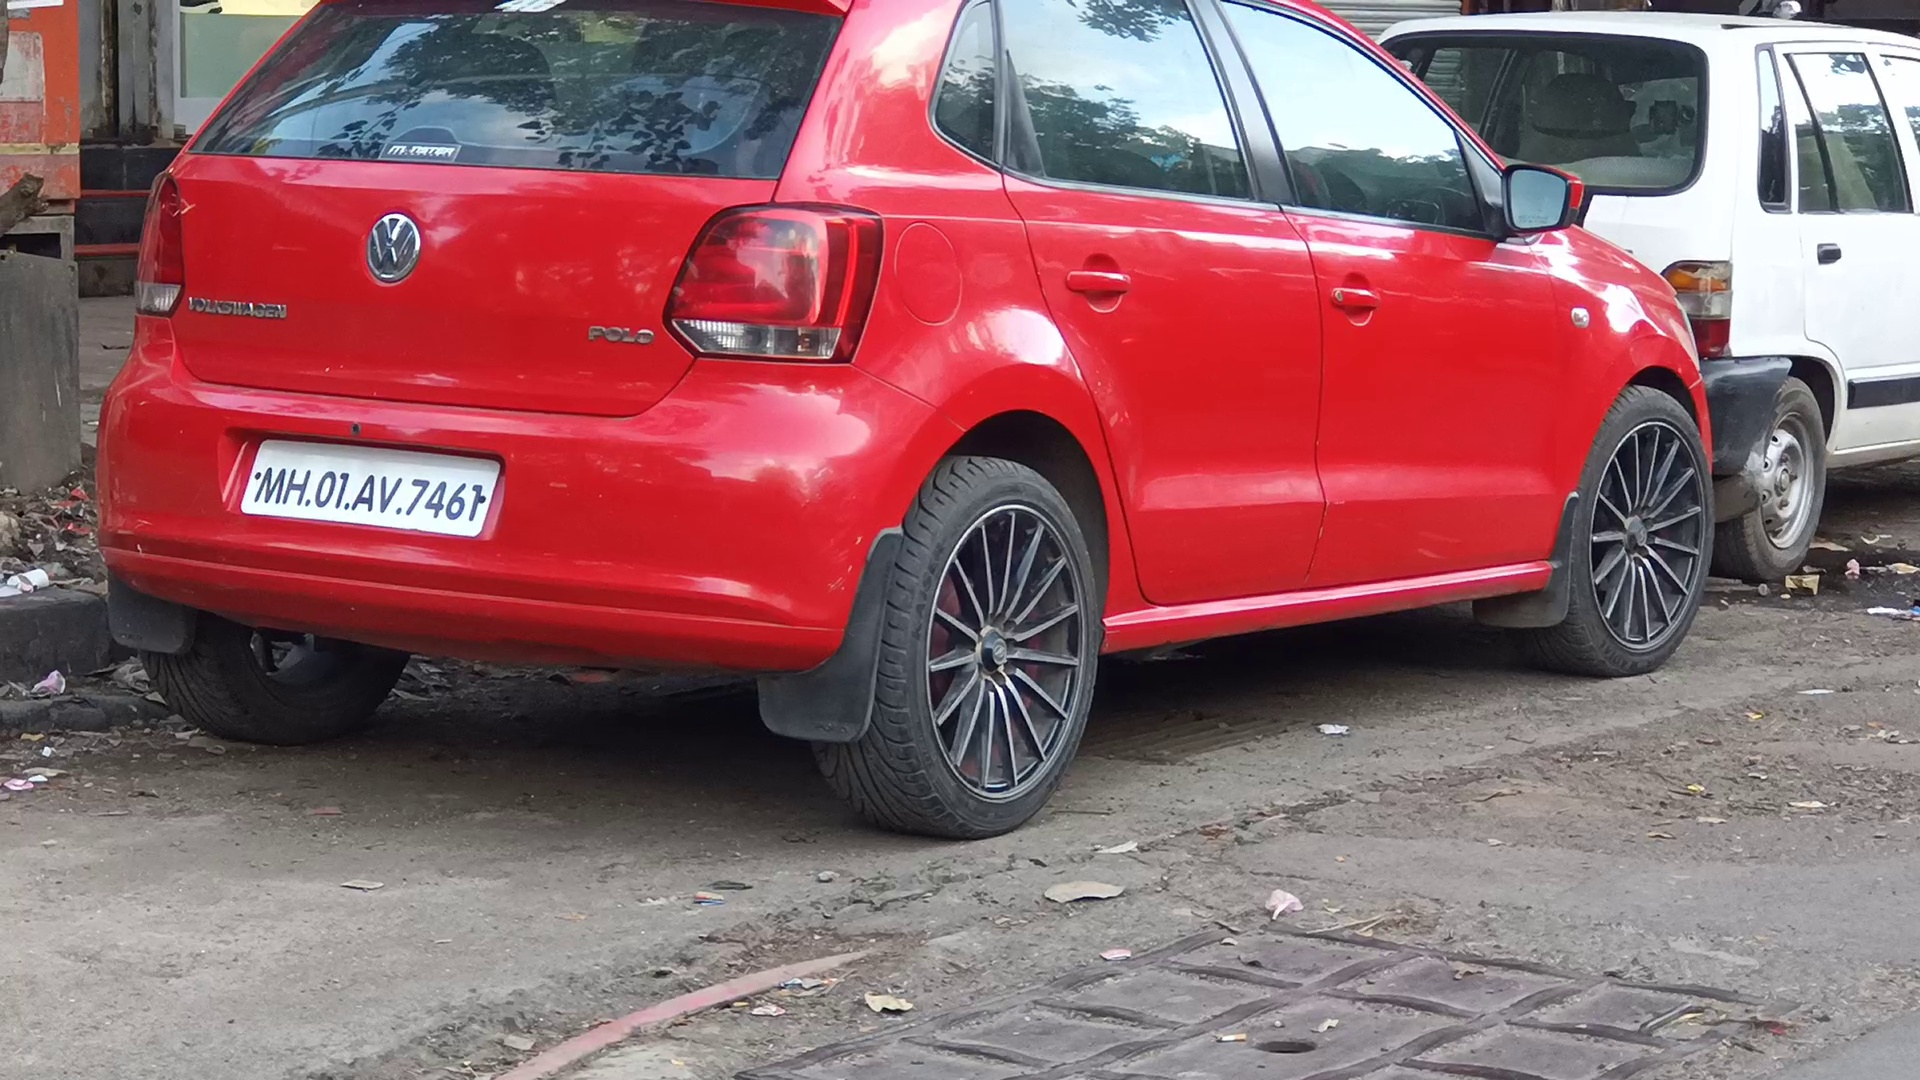MH01AV7461: (238, 436, 495, 536)
